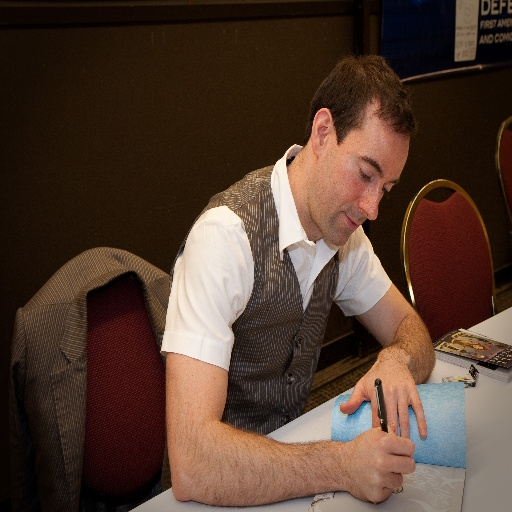hand: (309, 427, 428, 501), (339, 355, 426, 439)
